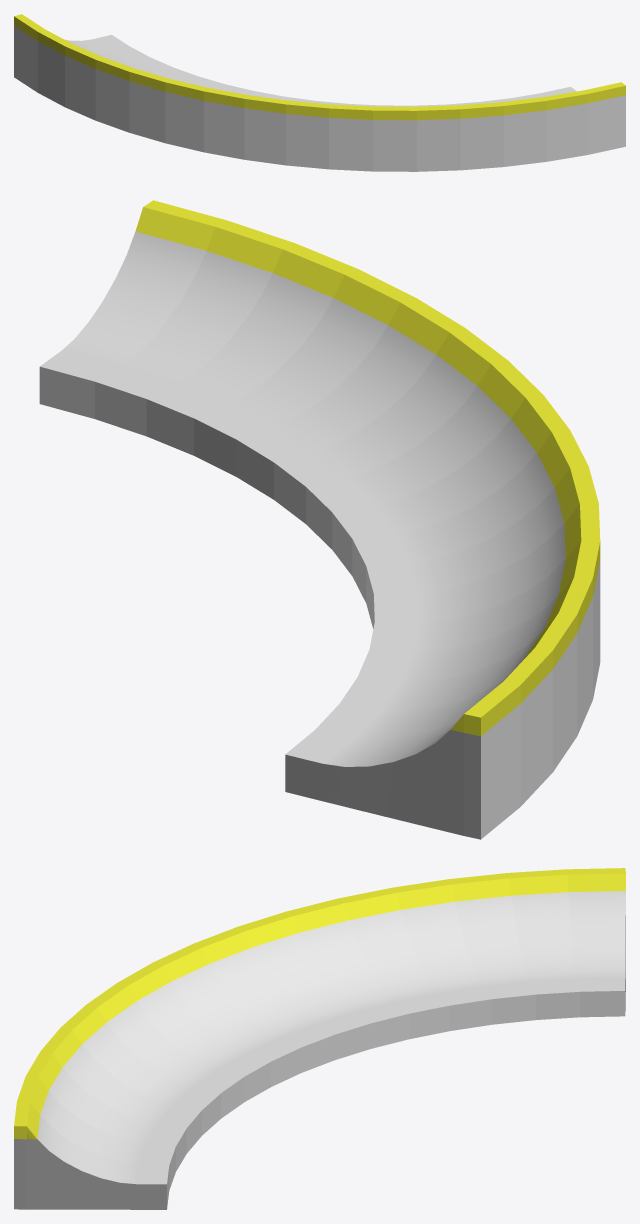
Rendered from LiftedTurn.fbx.
3 views of the same model, one above another, from view 1: azimuth 30°, elevation 25°; view 2: azimuth 150°, elevation 25°; view 3: azimuth 270°, elevation 25° (orthographic). The views are drawn at different scales.
Parts seen in each view (by area): view 1: LiftedTurn_90d_40x40x6; view 2: LiftedTurn_90d_40x40x6; view 3: LiftedTurn_90d_40x40x6.
Boxes of the visible parts, left/top/right/bottom form: LiftedTurn_90d_40x40x6: left=14, top=14, right=625, bottom=171; LiftedTurn_90d_40x40x6: left=39, top=200, right=600, bottom=839; LiftedTurn_90d_40x40x6: left=14, top=868, right=625, bottom=1209.
Bounding box in the file's own units: 40 × 40 × 6.
